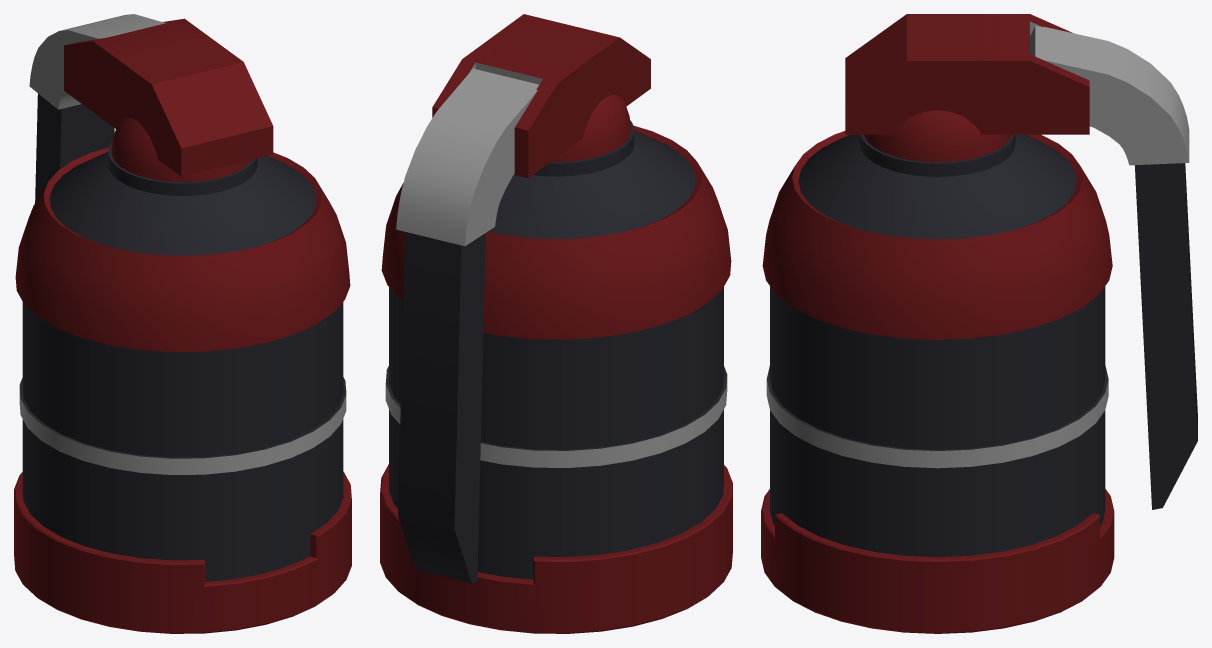
The model's file is Grenade.fbx.
3 views of the same model, side by side, from view 1: azimuth 30°, elevation 25°; view 2: azimuth 150°, elevation 25°; view 3: azimuth 270°, elevation 25° (orthographic). The views are drawn at different scales.
Parts seen in each view (by area): view 1: Body, Top Cover, Key Holder, Bottom Cover, Top, Key cap; view 2: Key Holder, Body, Top Cover, Bottom Cover, Top, Key cap; view 3: Body, Key Holder, Top Cover, Bottom Cover, Top, Key cap.
Boxes of the visible parts, x1,y1,x2,y2 form: Body: (19,302,346,581); Top Cover: (15,147,350,352); Key Holder: (29,14,273,202); Bottom Cover: (14,471,351,633); Top: (50,142,315,255); Key cap: (111,117,251,181); Key Holder: (396,14,650,583); Body: (385,287,727,579); Top Cover: (381,125,731,339); Bottom Cover: (380,464,732,633); Top: (488,120,695,238); Key cap: (551,95,630,161); Body: (766,286,1108,557); Key Holder: (845,14,1197,509); Top Cover: (762,131,1112,339); Bottom Cover: (761,489,1114,633); Top: (798,134,1076,239); Key cap: (864,110,1010,162).
Bounding box in the file's own units: 0.4092 × 0.5061 × 0.6688.
